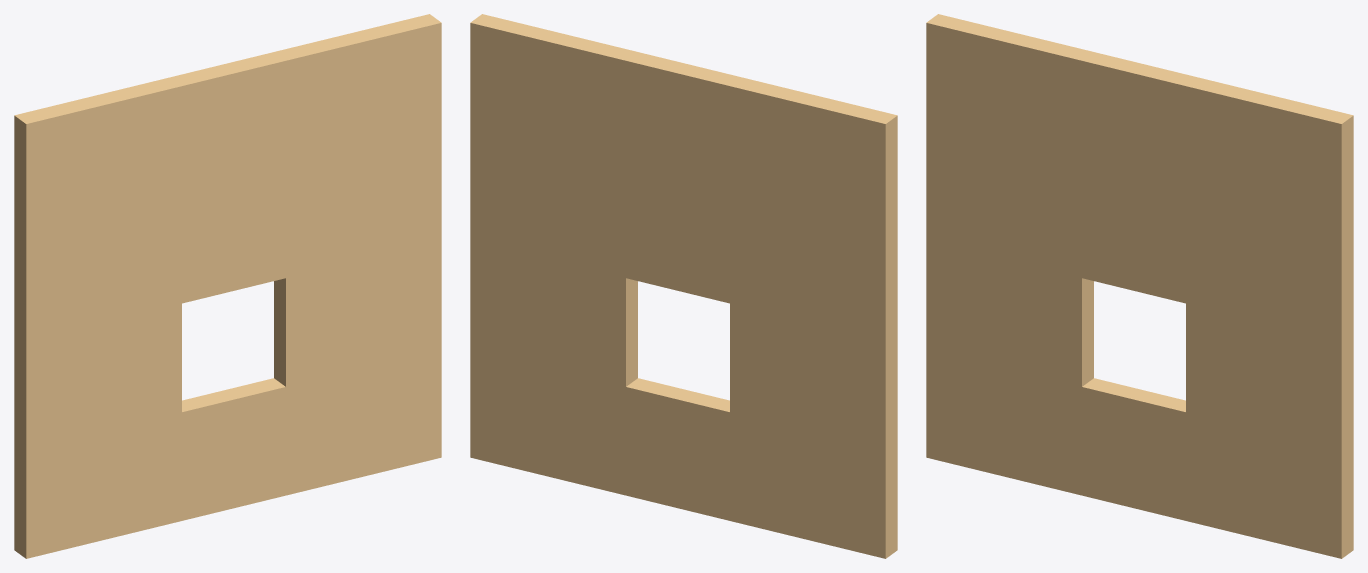
The model's file is Wall_Window_01.fbx.
3 renders of one model, left to right at view 1: azimuth 30°, elevation 25°; view 2: azimuth 150°, elevation 25°; view 3: azimuth 330°, elevation 25°, orthographic.
Visible parts, largest first — view 1: Wall_Window_01; view 2: Wall_Window_01; view 3: Wall_Window_01.
Part boxes in pixels (x1,y1,x2,y2): Wall_Window_01: [14, 14, 441, 558]; Wall_Window_01: [470, 14, 897, 558]; Wall_Window_01: [926, 14, 1353, 558].
Size of the model in its own units: 4 by 4 by 0.2.
